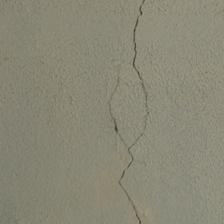Crack: (36, 22, 112, 133), (0, 42, 60, 102), (59, 6, 88, 55)
